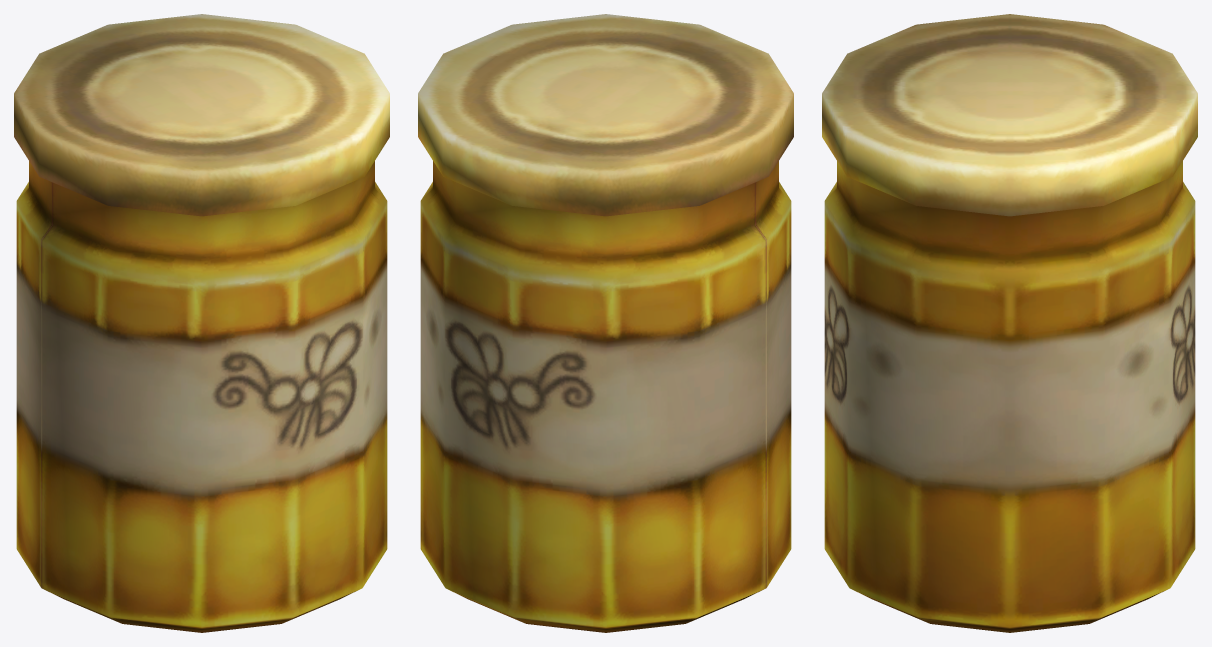
The model's file is SM_bank_04.gltf.
3 renders of one model, left to right at view 1: azimuth 30°, elevation 25°; view 2: azimuth 150°, elevation 25°; view 3: azimuth 270°, elevation 25°, orthographic.
Visible parts, largest first — view 1: SM_bank_04; view 2: SM_bank_04; view 3: SM_bank_04.
Part boxes in pixels (x1,y1,x2,y2): SM_bank_04: (14,14,389,632); SM_bank_04: (418,14,793,632); SM_bank_04: (822,14,1197,632).
Size of the model in its own units: 0.1688 by 0.234 by 0.1688.
1 material, 1 textured.
